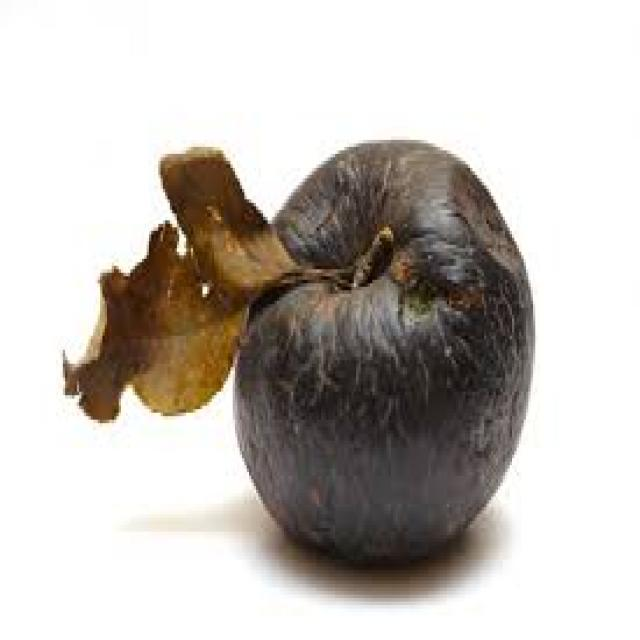organic waste: (230, 136, 533, 563), (60, 143, 338, 420)
